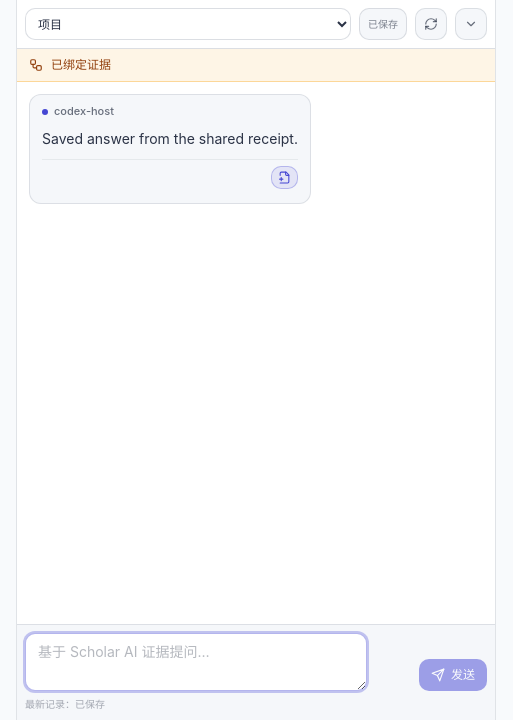
Test: AgentSidebar › does not expose visual observation contract details in the sidebar
Check: the text "Saved answer from the shared receipt." is shown, box [42,127,298,151]
Click the button named "显示侧栏工具" at (471,24), box [455,8,487,40]
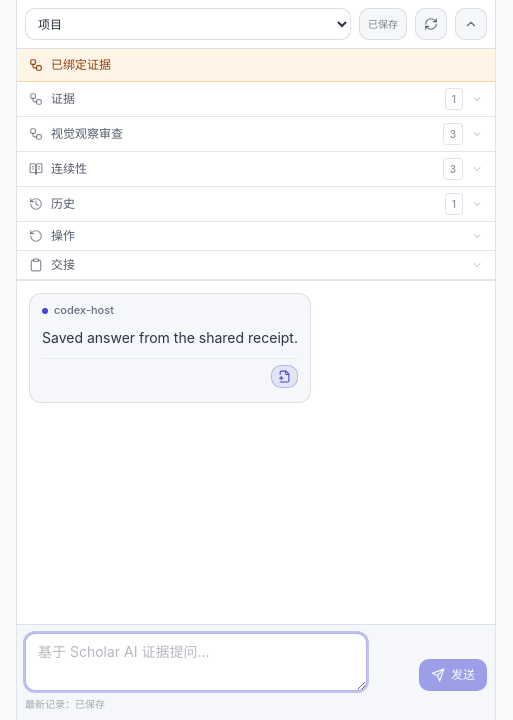
Click the button "视觉观察审查 3" at (87,134), box [17,117,495,151]
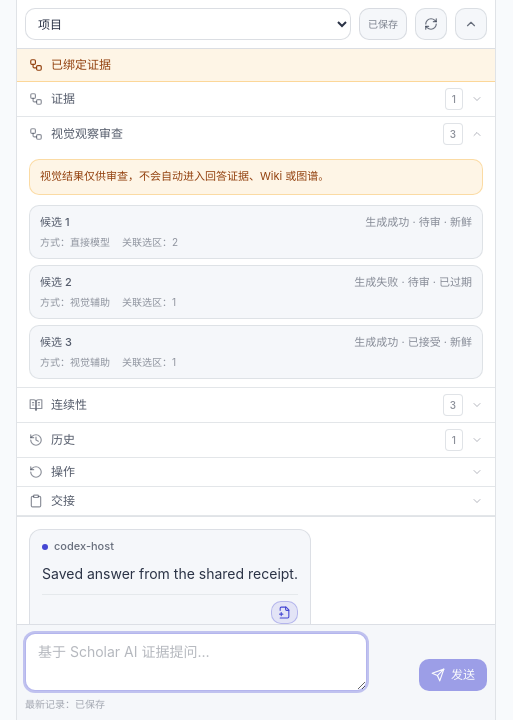
Click the button with aria-label "读取视觉观察候选 1" at (387,222), box [29,205,483,259]
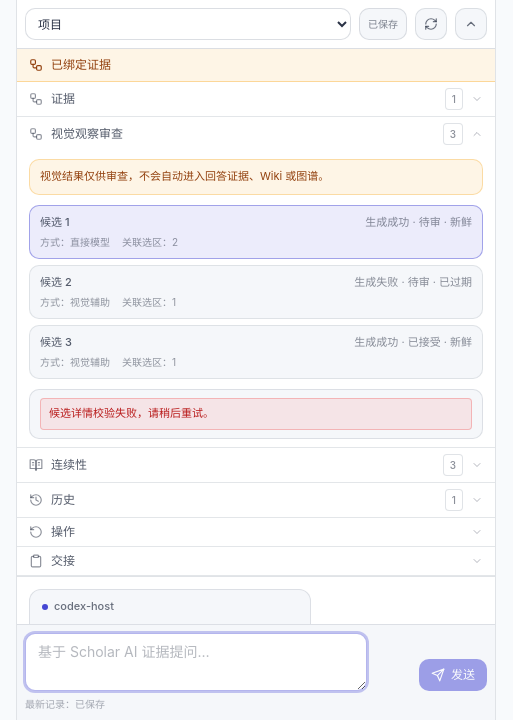
Check: the text "候选详情校验失败，请稍后重试。" is shown, box [40,398,472,430]
